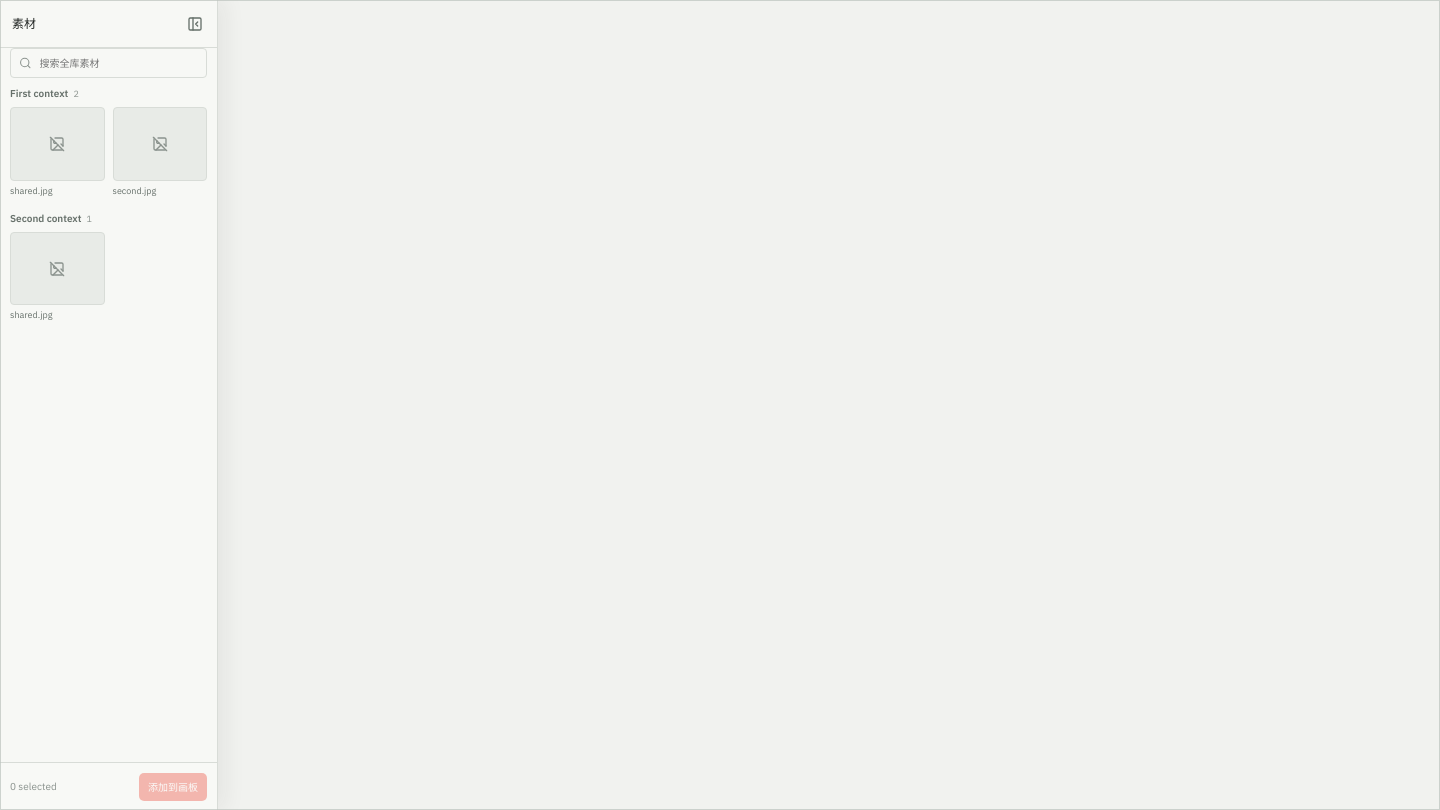
MoodboardAssetDrawer › shows context sections by default and de-duplicates selected assets
The width and height of the screenshot is (1440, 810).
Expected: the heading "First context 2" is shown, x1=10 y1=87 x2=79 y2=100
Click the button named "Select shared.jpg" at (57, 151), box x1=10 y1=107 x2=104 y2=196
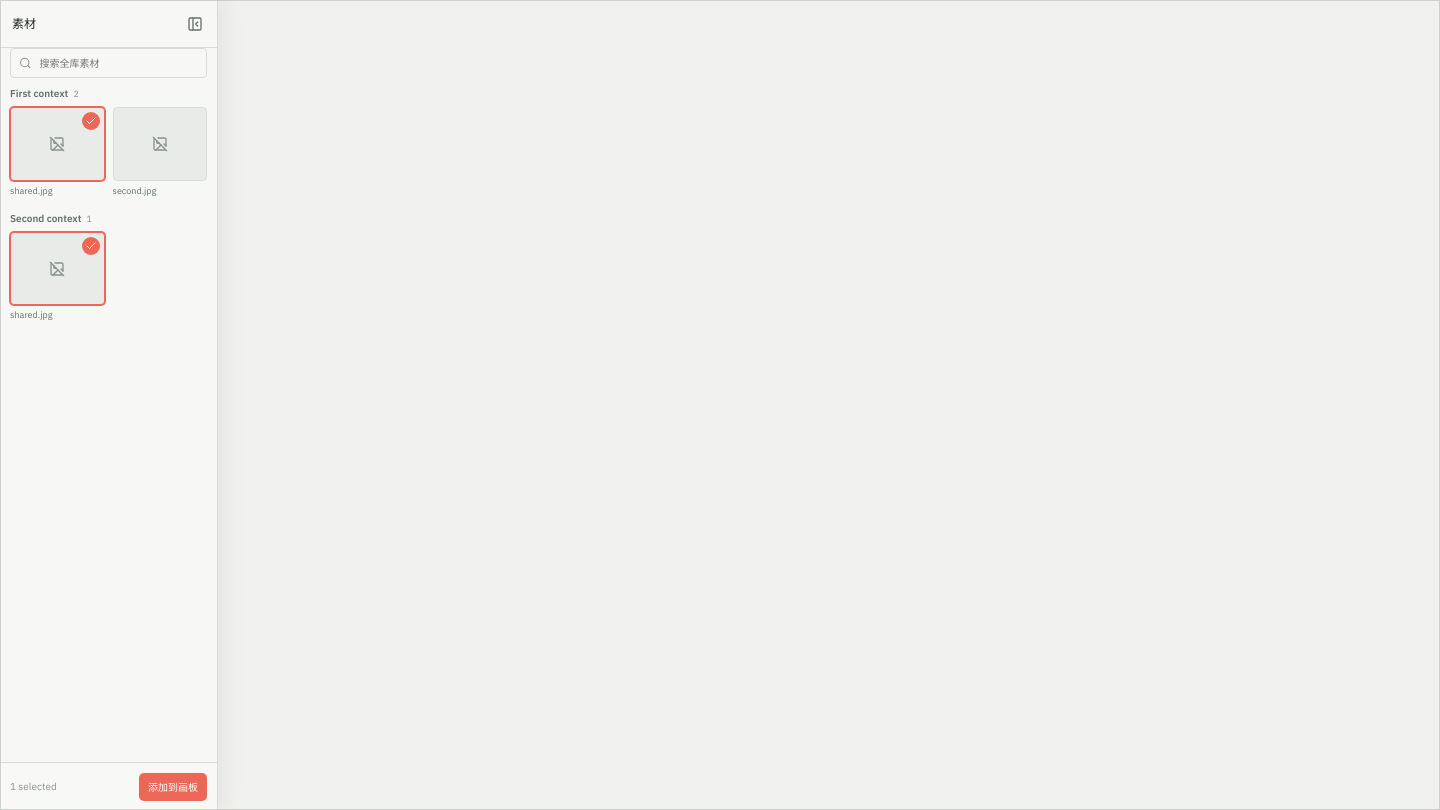
Click the button named "Select second.jpg" at (160, 151), box x1=112 y1=107 x2=207 y2=196
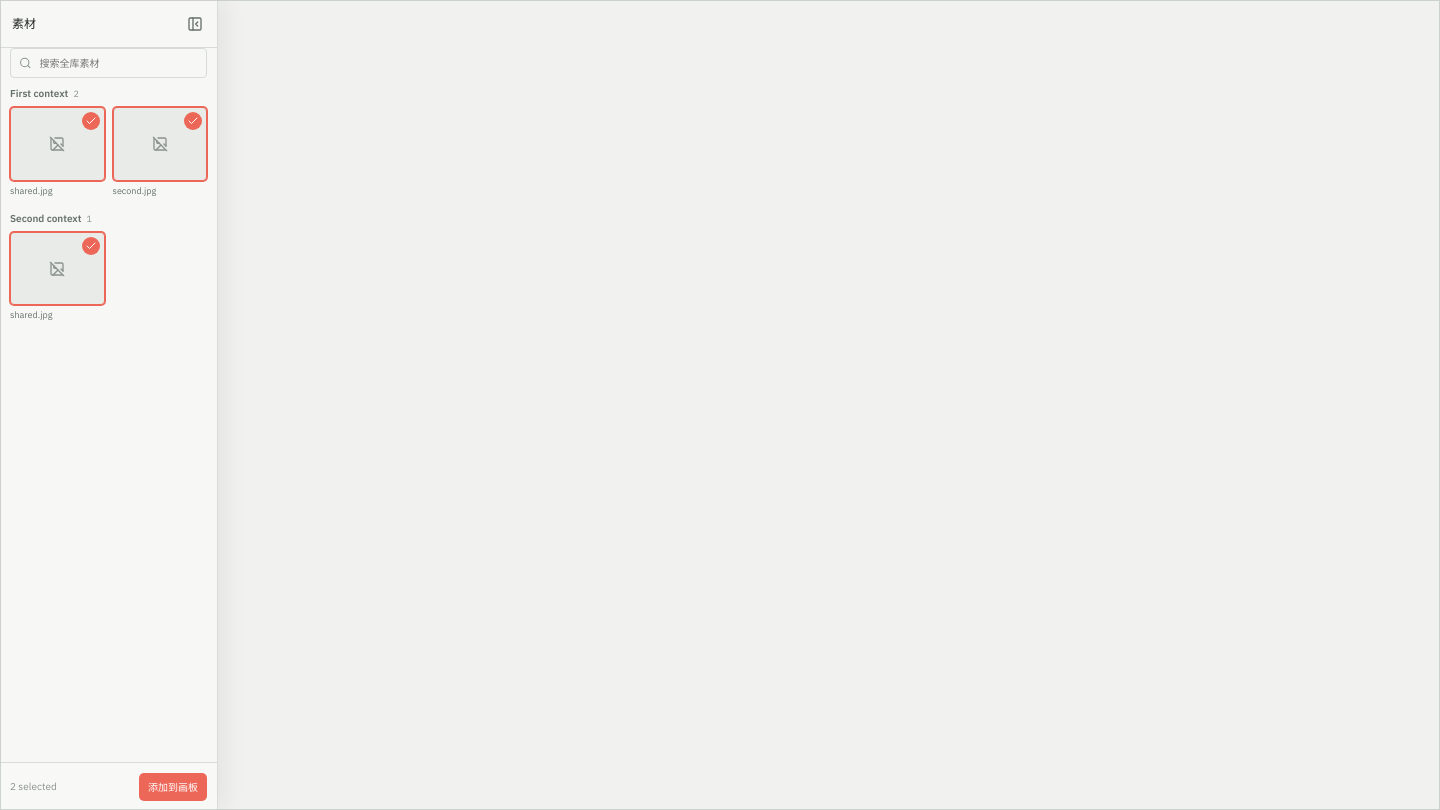
Expected: the text "2 selected" is shown, x1=10 y1=780 x2=57 y2=793
Click the button "添加到画板" at (173, 786), box x1=139 y1=772 x2=207 y2=800
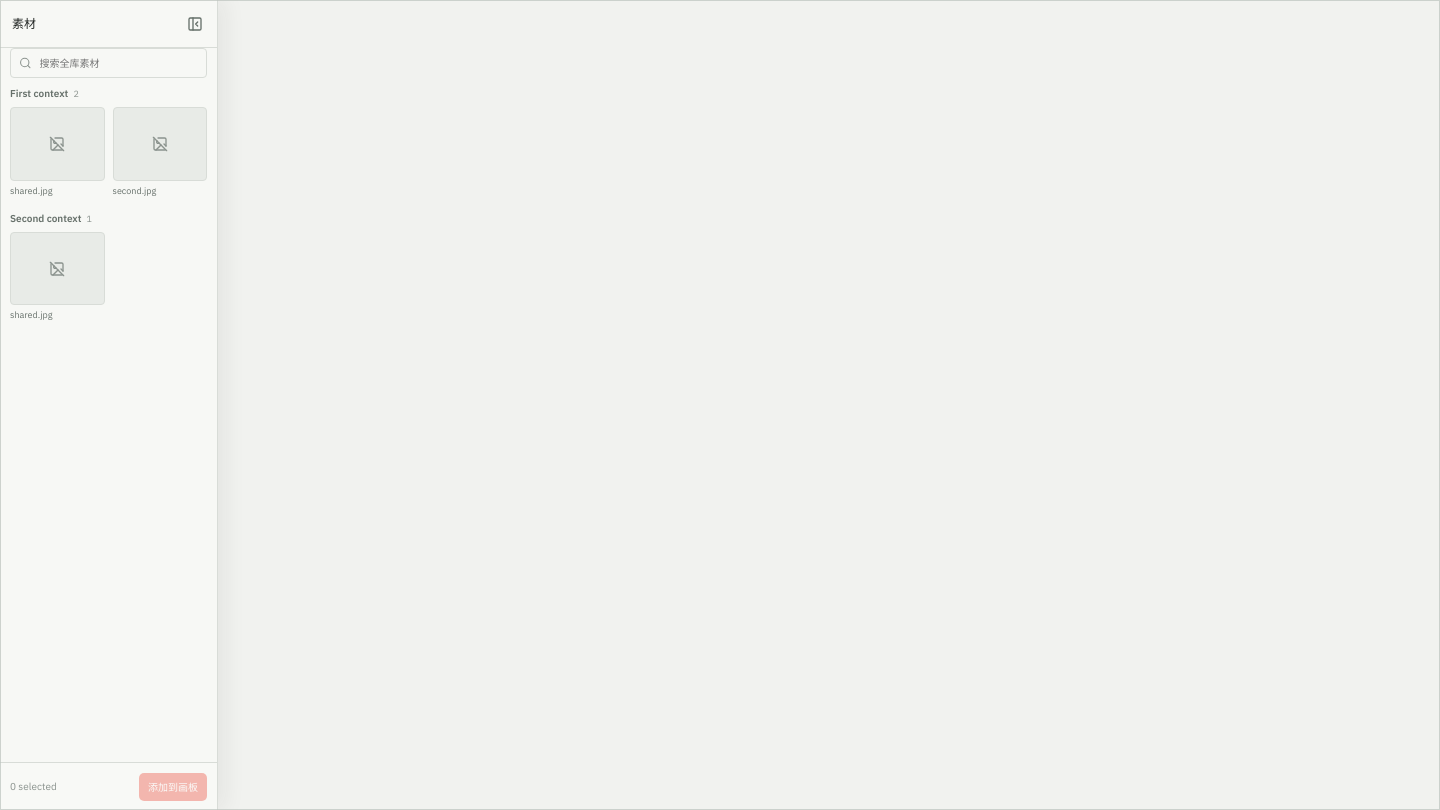
Expected: the text "0 selected" is shown, x1=10 y1=780 x2=57 y2=793
